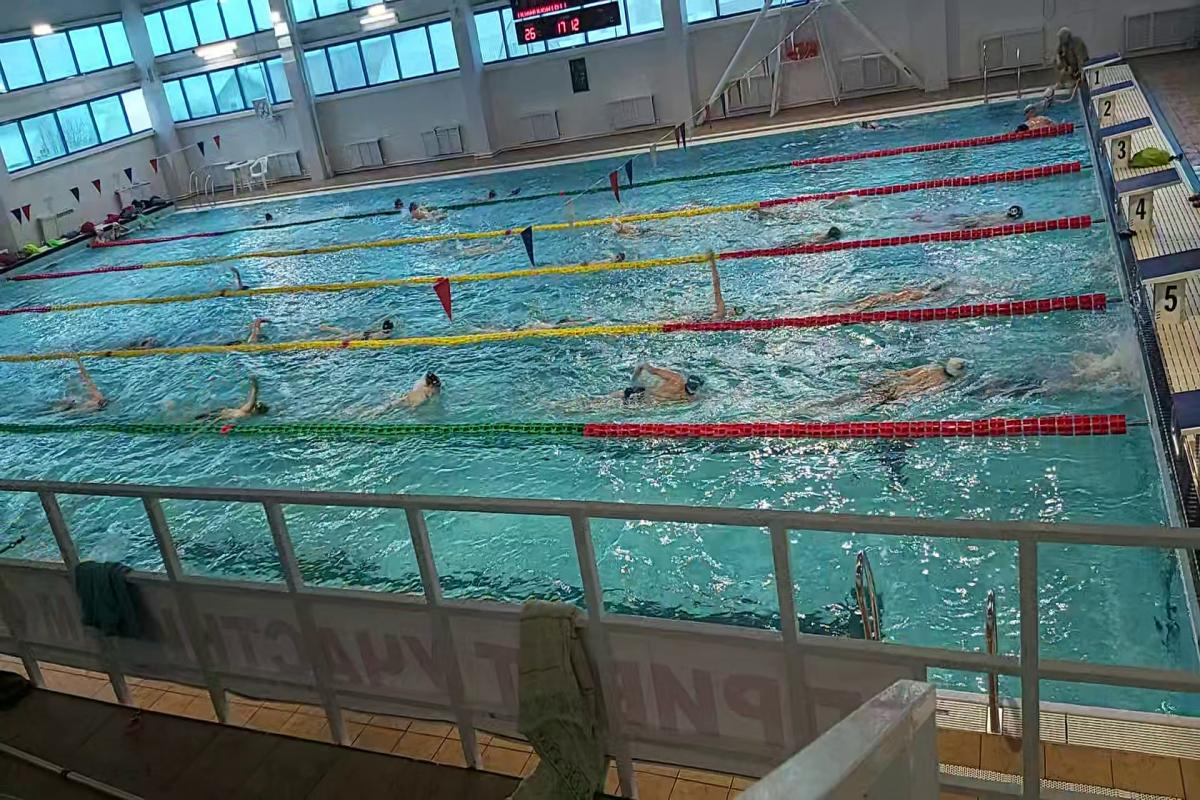swimmer: (836, 351, 978, 419), (597, 366, 714, 418), (195, 372, 276, 425), (47, 358, 123, 414), (855, 271, 960, 306), (690, 261, 750, 321), (382, 373, 457, 417), (940, 200, 1029, 227), (606, 213, 686, 242), (330, 314, 403, 337), (797, 224, 861, 245), (219, 322, 279, 342), (220, 262, 258, 290), (401, 203, 447, 225)
